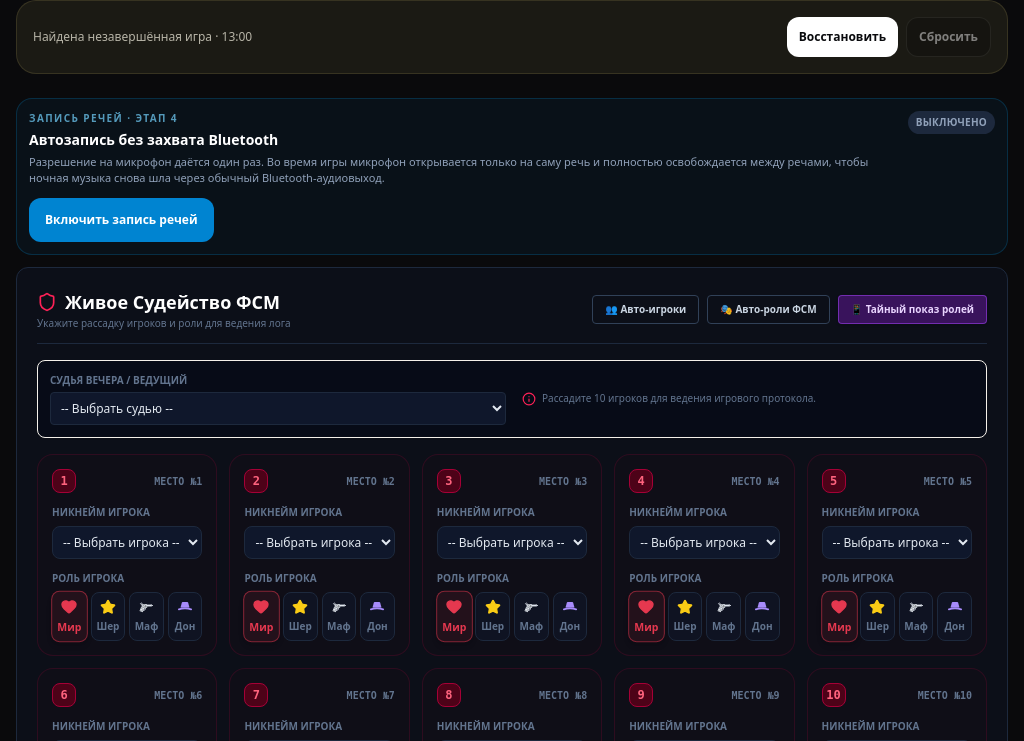
it: Live Game auto mode › is off by default and does nothing when a speech ends
Click the button "Восстановить". click: {"x": 842, "y": 37}
box: [787, 17, 898, 57]
Wait 5000 ms
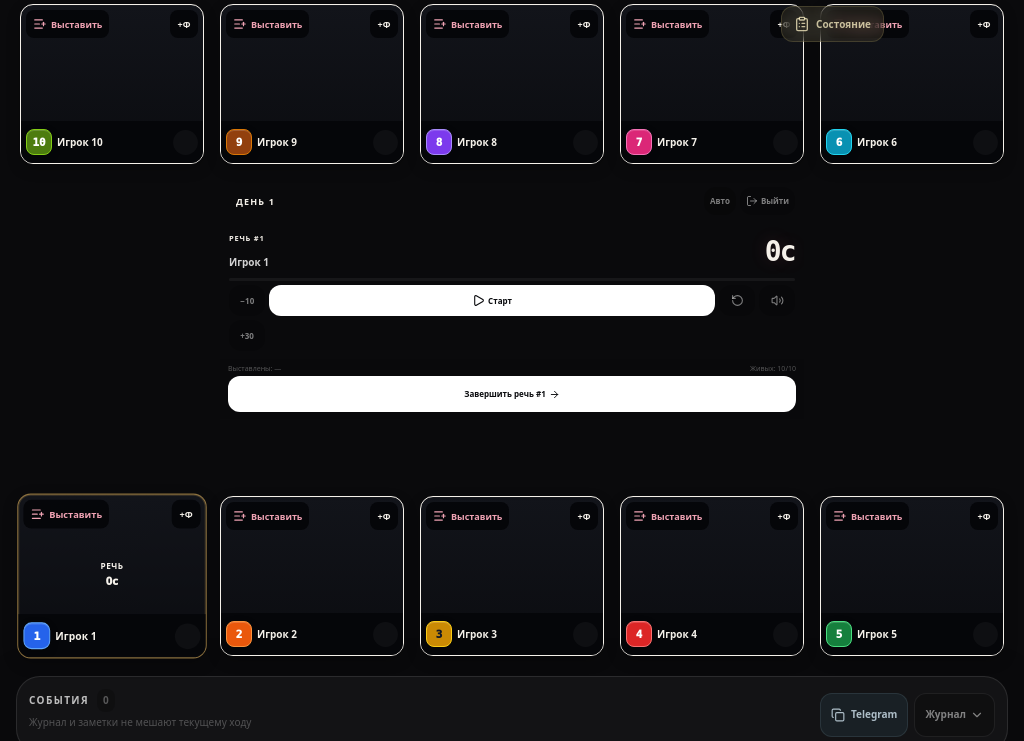
expect the element with test id "live-judge-hud" is shown: met, box [220, 180, 804, 480]
